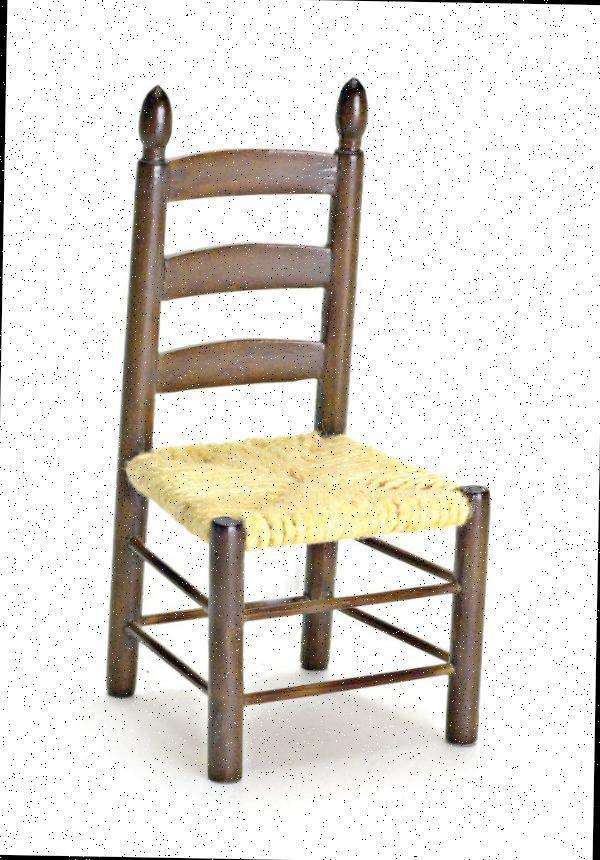Silla: (115, 72, 496, 781)
